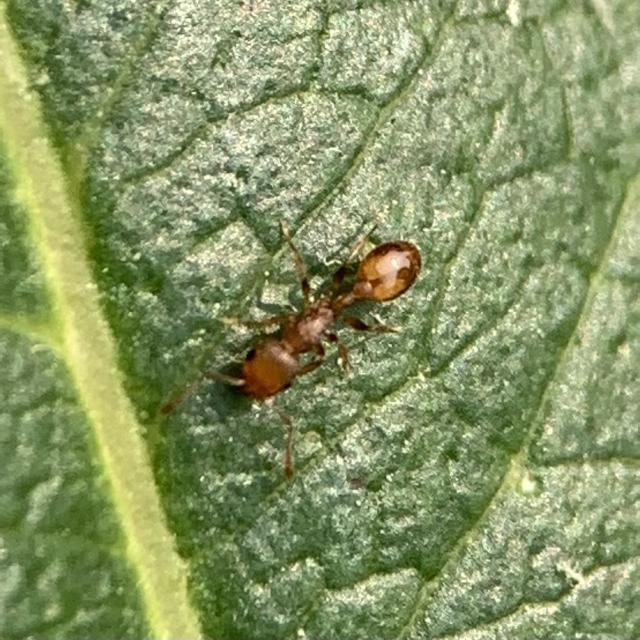Temnothorax: (198, 208, 454, 454)
